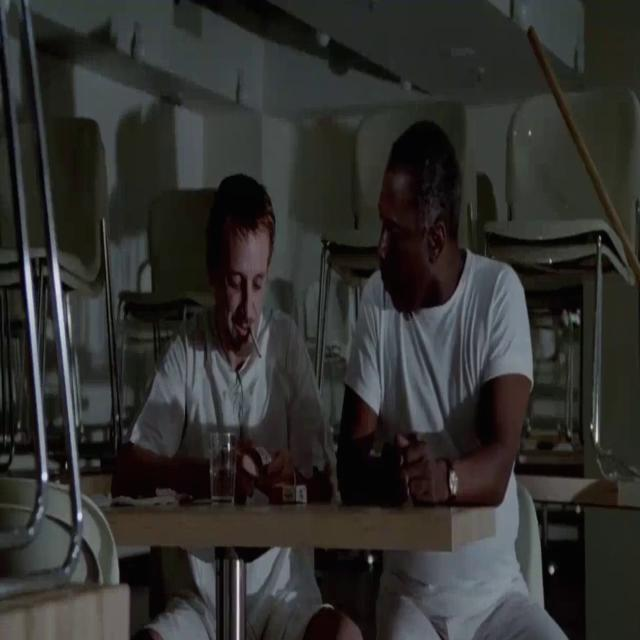Smooking: (248, 314, 266, 362)
